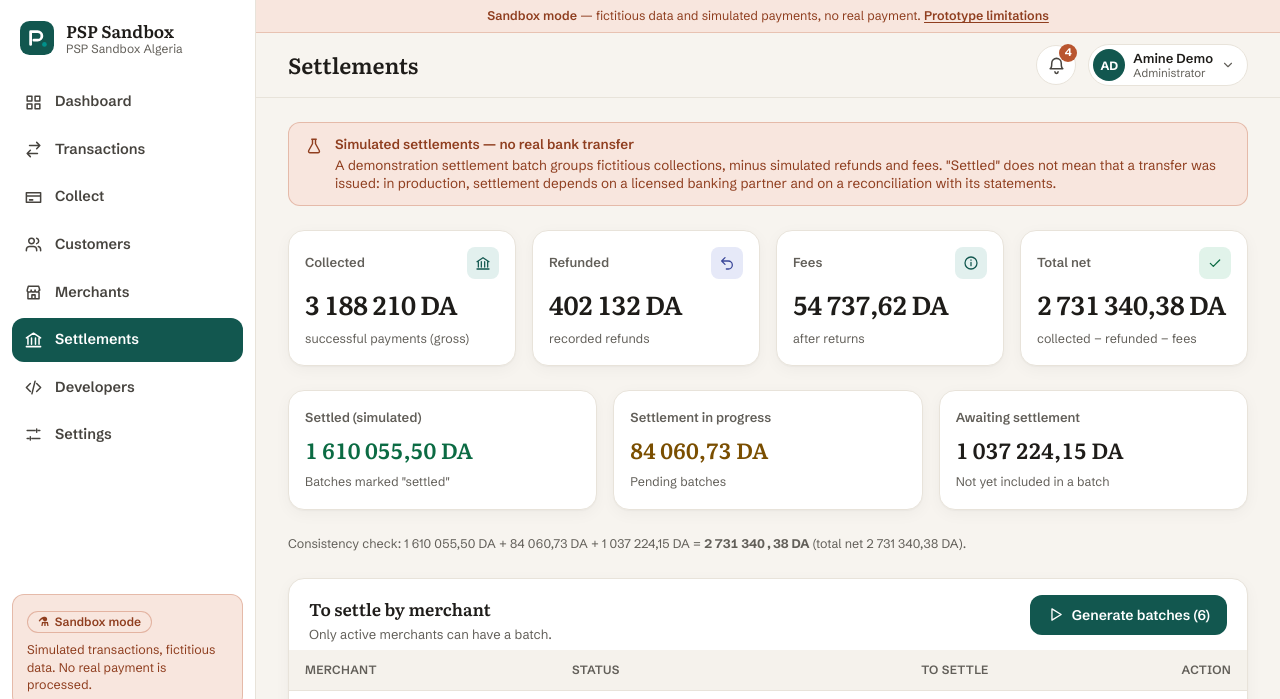
settlements, roles and settings › generates simulated batches while keeping the ledger consistent
The image size is (1280, 699).
Expected: the text "Simulated settlements — no real bank transfer" is shown, [335,136,634,152]
Click the button "Generate batches (6)". click: (1128, 615)
box: [1030,595,1227,635]
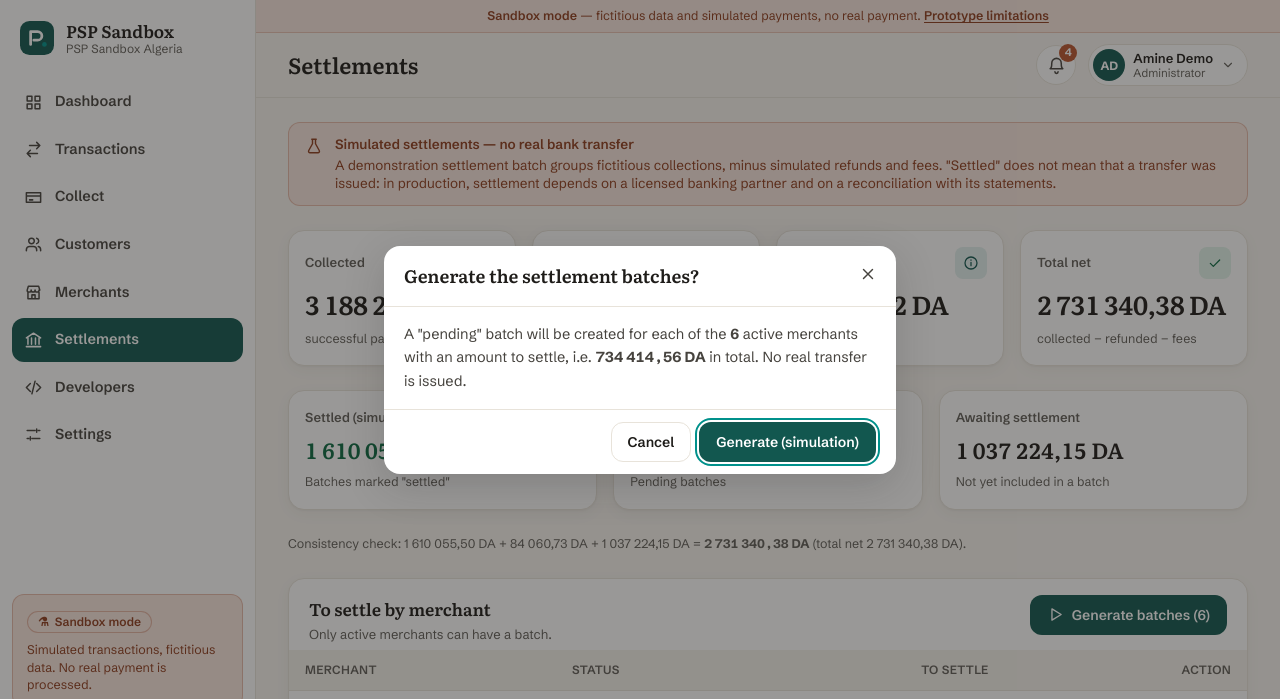
Click the button "Generate (simulation)". click: (788, 442)
box: [699,422,876,462]
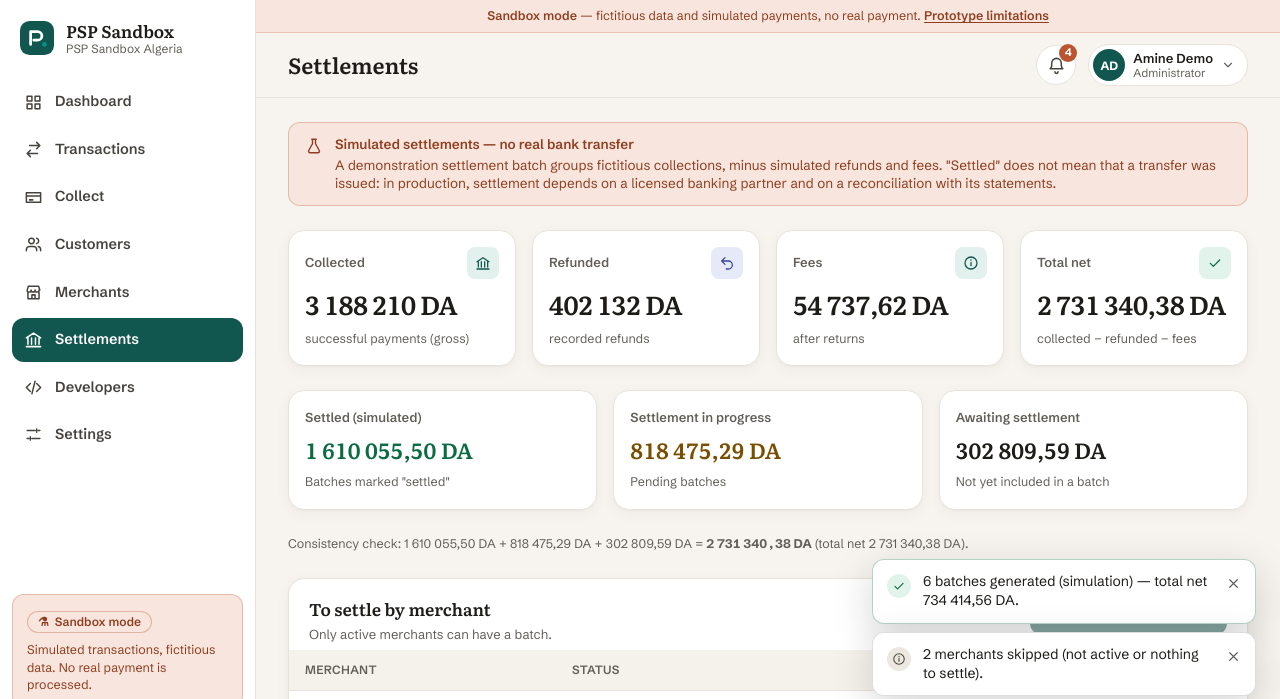
Result: the text "6 batches generated (simulation) — total net 734 414,56 DA." is shown at [923,572,1210,610]
